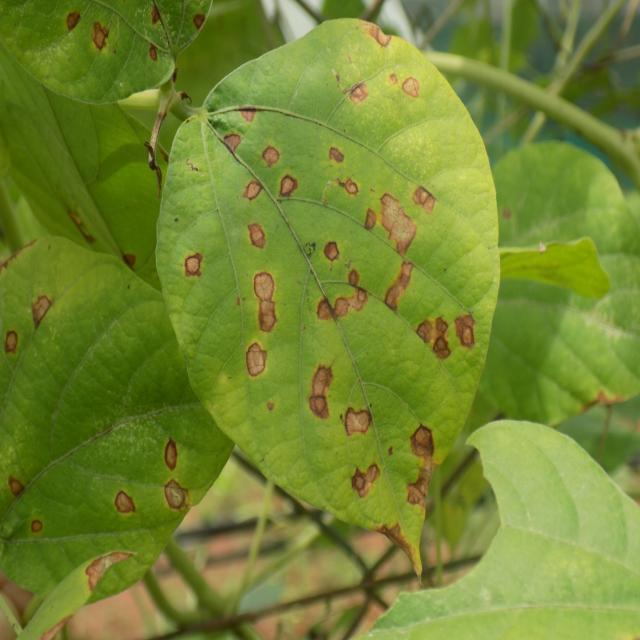Dolicos bean_cercospora leaf spot: (154, 20, 501, 575), (0, 227, 265, 610)
Dolicos bean_healthy: (445, 232, 622, 430)
